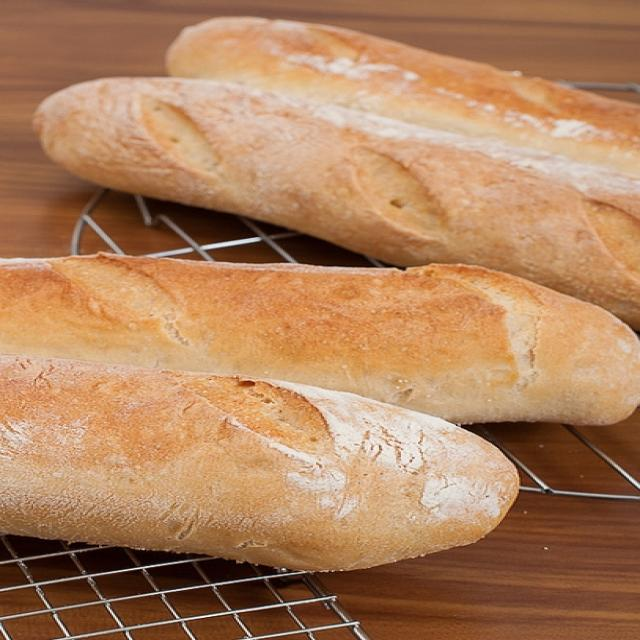面包点心: (8, 5, 627, 610)
